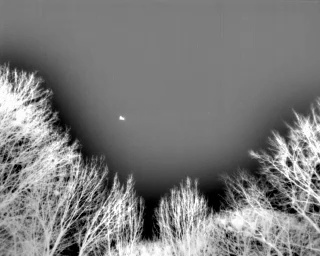BIRD: (117, 113, 127, 124)
